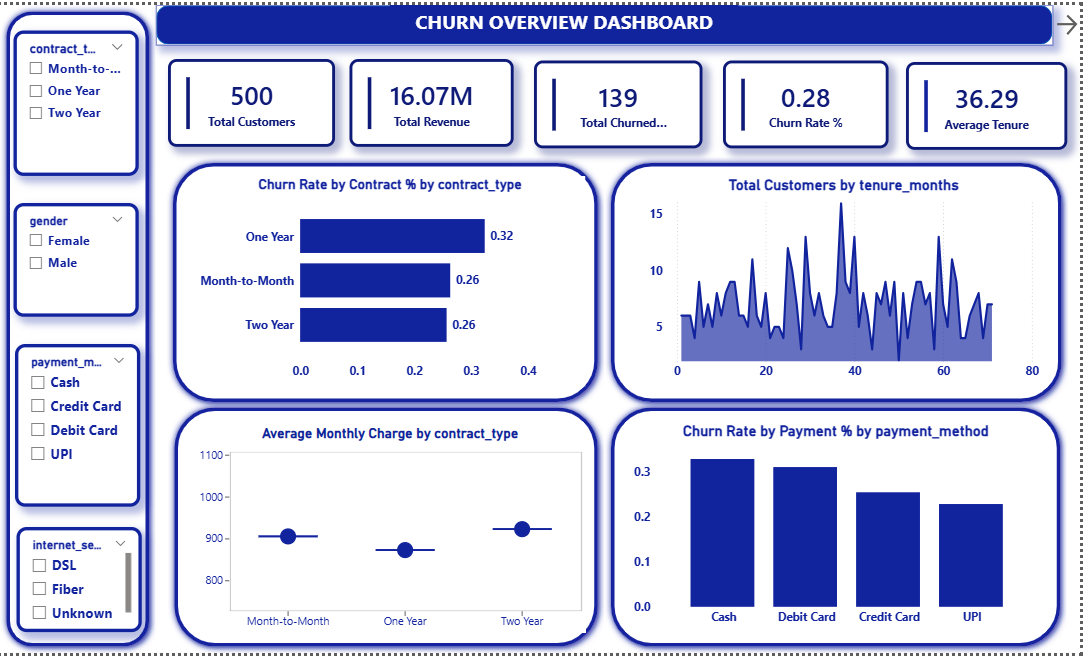

What the dashboard file says about the page in this screenshot:
{"tool":"powerbi","page":{"name":"Page 1","canvas":[1500,900],"ordinal":0},"visuals":[{"type":"shape","box":[0,0,216,900],"z":0},{"type":"shape","box":[840,550,642,350],"z":1000},{"type":"shape","box":[234,550,606,350],"z":2000},{"type":"shape","box":[216,0,1246,56],"z":3000},{"type":"shape","box":[232,210,608,350],"z":4000},{"type":"cardVisual","fields":{"Data":["Cust_Churn_Dataset.Total Customers"]},"box":[234,74,232,122],"z":5000},{"type":"cardVisual","fields":{"Data":["Cust_Churn_Dataset.Total Revenue"]},"box":[486,76,228,122],"z":6000},{"type":"cardVisual","fields":{"Data":["Cust_Churn_Dataset.Total Churned Customers"]},"box":[742,78,234,122],"z":7000},{"type":"cardVisual","fields":{"Data":["Cust_Churn_Dataset.Churn Rate %"]},"box":[1004,78,230,122],"z":8000},{"type":"cardVisual","fields":{"Data":["Cust_Churn_Dataset.Average Tenure"]},"box":[1258,80,224,122],"z":9000},{"type":"textbox","box":[542,0,484,46],"z":10000},{"type":"barChart","fields":{"Category":["Cust_Churn_Dataset.contract_type"],"Y":["Cust_Churn_Dataset.Churn Rate by Contract %"]},"box":[270,238,542,292],"z":11000},{"type":"shape","box":[840,210,644,350],"z":12000},{"type":"clusteredColumnChart","fields":{"Category":["Cust_Churn_Dataset.payment_method"],"Y":["Cust_Churn_Dataset.Churn Rate by Payment %"]},"box":[876,580,572,292],"z":13000},{"type":"stackedAreaChart","fields":{"Category":["Cust_Churn_Dataset.tenure_months"],"Y":["Cust_Churn_Dataset.Total Customers"]},"box":[896,238,552,292],"z":14000},{"type":"BoxandWhiskerByMAQ1823AD39DT234AB532063E128AX","fields":{"categoryGroup":["Cust_Churn_Dataset.contract_type"],"measure":["Cust_Churn_Dataset.Average Monthly Charge"]},"box":[270,584,542,288],"z":15000},{"type":"slicer","fields":{"Values":["Cust_Churn_Dataset.internet_service"]},"box":[22,726,174,146],"z":16000},{"type":"slicer","fields":{"Values":["Cust_Churn_Dataset.gender"]},"box":[18,274,174,158],"z":17000},{"type":"slicer","fields":{"Values":["Cust_Churn_Dataset.contract_type"]},"box":[18,36,174,202],"z":18000},{"type":"slicer","fields":{"Values":["Cust_Churn_Dataset.payment_method"]},"box":[20,470,174,226],"z":19000},{"type":"actionButton","box":[1462.2,0,37.8,55.6],"z":20000}]}

Visuals, with their boxes in screenshot pixels (x1, y1, x2, y2):
shape: 8,0,163,643
shape: 608,393,1067,643
shape: 176,393,608,643
shape: 163,0,1052,40
shape: 174,150,608,400
cardVisual - Cust_Churn_Dataset.Total Customers: 176,53,341,140
cardVisual - Cust_Churn_Dataset.Total Revenue: 355,54,518,141
cardVisual - Cust_Churn_Dataset.Total Churned Customers: 538,56,705,143
cardVisual - Cust_Churn_Dataset.Churn Rate %: 725,56,890,143
cardVisual - Cust_Churn_Dataset.Average Tenure: 907,57,1067,144
textbox: 395,0,741,33
barChart - Cust_Churn_Dataset.contract_type x Cust_Churn_Dataset.Churn Rate by Contract %: 201,170,588,378
shape: 608,150,1068,400
clusteredColumnChart - Cust_Churn_Dataset.payment_method x Cust_Churn_Dataset.Churn Rate by Payment %: 634,414,1042,623
stackedAreaChart - Cust_Churn_Dataset.tenure_months x Cust_Churn_Dataset.Total Customers: 648,170,1042,378
BoxandWhiskerByMAQ1823AD39DT234AB532063E128AX - Cust_Churn_Dataset.contract_type x Cust_Churn_Dataset.Average Monthly Charge: 201,417,588,623
slicer - Cust_Churn_Dataset.internet_service: 24,518,148,623
slicer - Cust_Churn_Dataset.gender: 21,196,146,308
slicer - Cust_Churn_Dataset.contract_type: 21,26,146,170
slicer - Cust_Churn_Dataset.payment_method: 23,336,147,497
actionButton: 1052,0,1079,40
